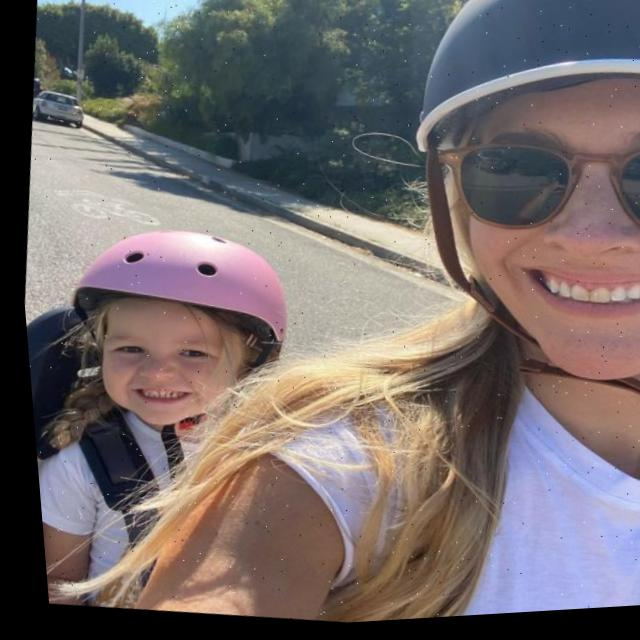helmet: (370, 0, 640, 435), (36, 214, 303, 508)
